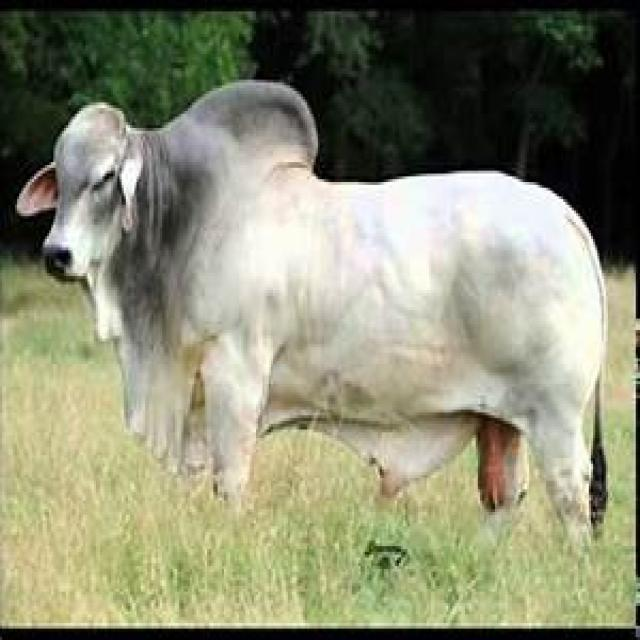cow: (32, 80, 608, 543)
